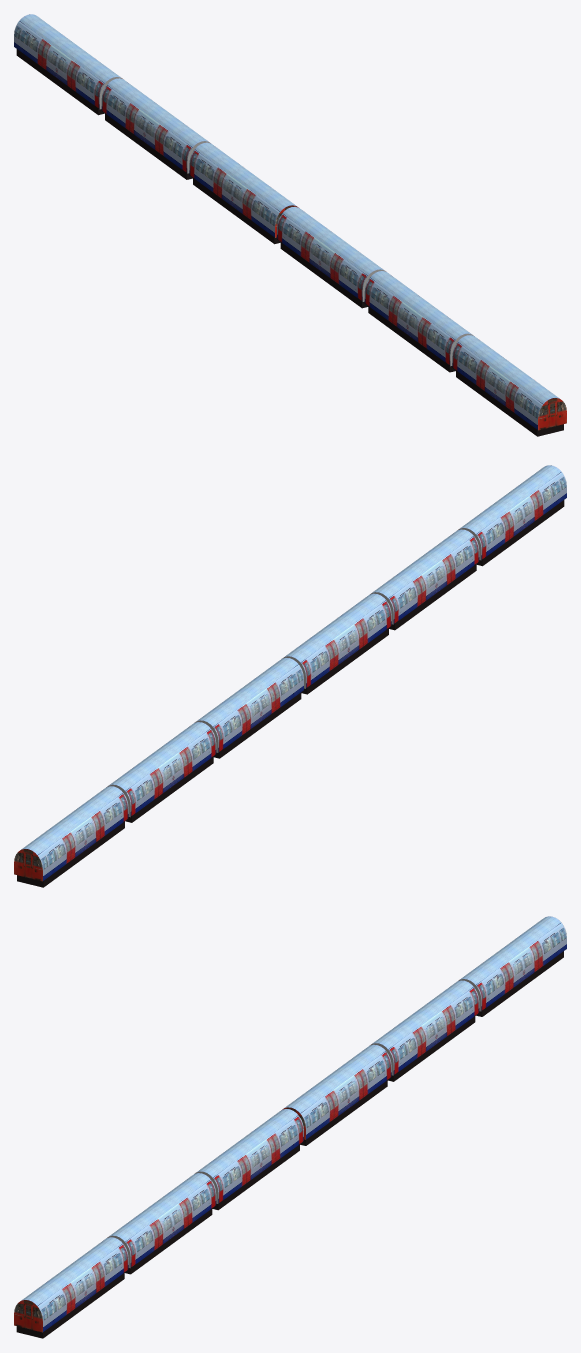
Rendered from duck2.dae.
3 renders of one model, top to bottom at view 1: azimuth 30°, elevation 25°; view 2: azimuth 150°, elevation 25°; view 3: azimuth 330°, elevation 25°, orthographic.
Parts seen in each view (by area): view 1: SketchUp (×13); view 2: SketchUp (×13); view 3: SketchUp (×13).
Part boxes in pixels (x1,y1,x2,y2): SketchUp (×13): (14,14,566,436); SketchUp (×13): (14,465,566,887); SketchUp (×13): (14,916,566,1338).
Size of the model in its own units: 91.94 by 2890 by 111.
4 materials, 4 textured.
